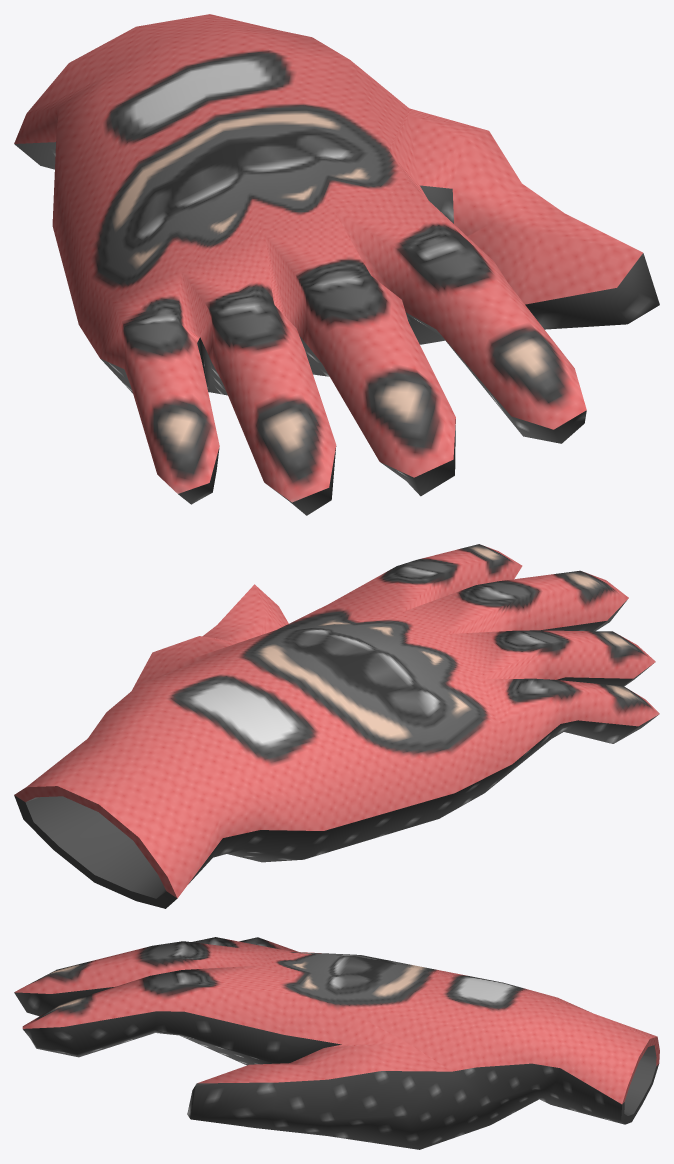
File: gant-textured.obj
3 views of the same model, one above another, from view 1: azimuth 30°, elevation 25°; view 2: azimuth 150°, elevation 25°; view 3: azimuth 270°, elevation 25° (orthographic). The views are drawn at different scales.
Visible parts, largest first — view 1: gant; view 2: gant; view 3: gant.
Part boxes in pixels (x1,y1,x2,y2): gant: [14, 14, 659, 515]; gant: [14, 544, 659, 908]; gant: [14, 937, 659, 1149].
Size of the model in its own units: 15.46 by 6.04 by 26.36.
